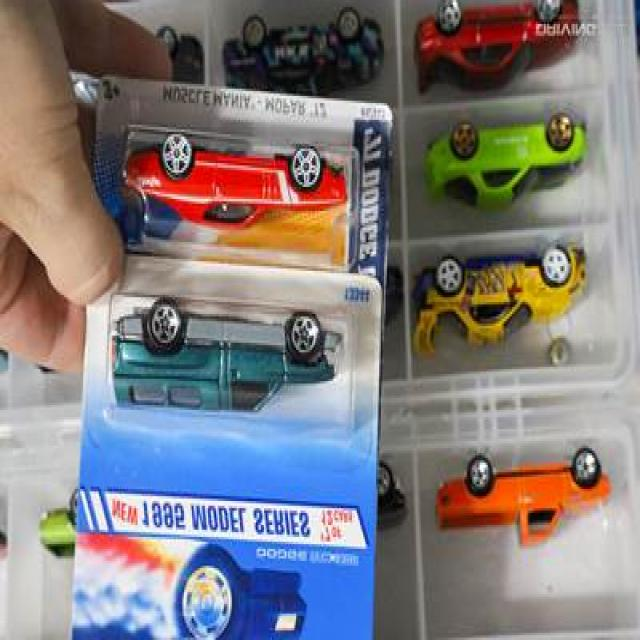Car: (110, 300, 341, 414), (122, 134, 347, 235), (435, 448, 611, 552), (422, 112, 589, 215), (413, 2, 579, 96)
